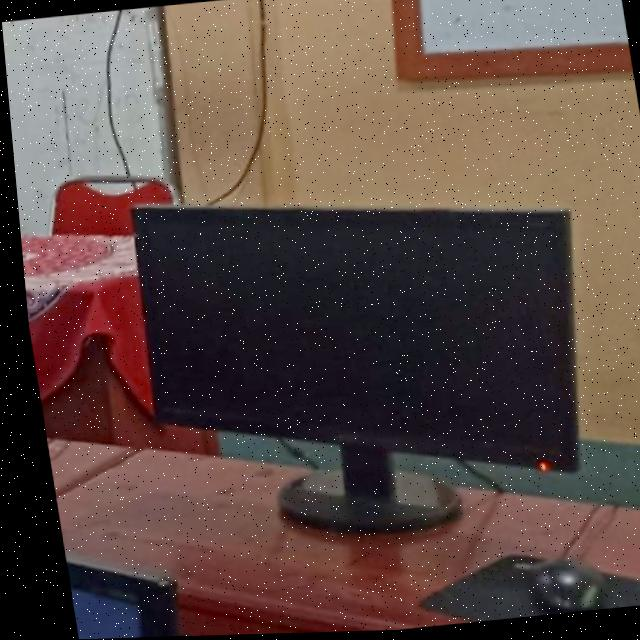offscreen: (129, 207, 567, 473)
